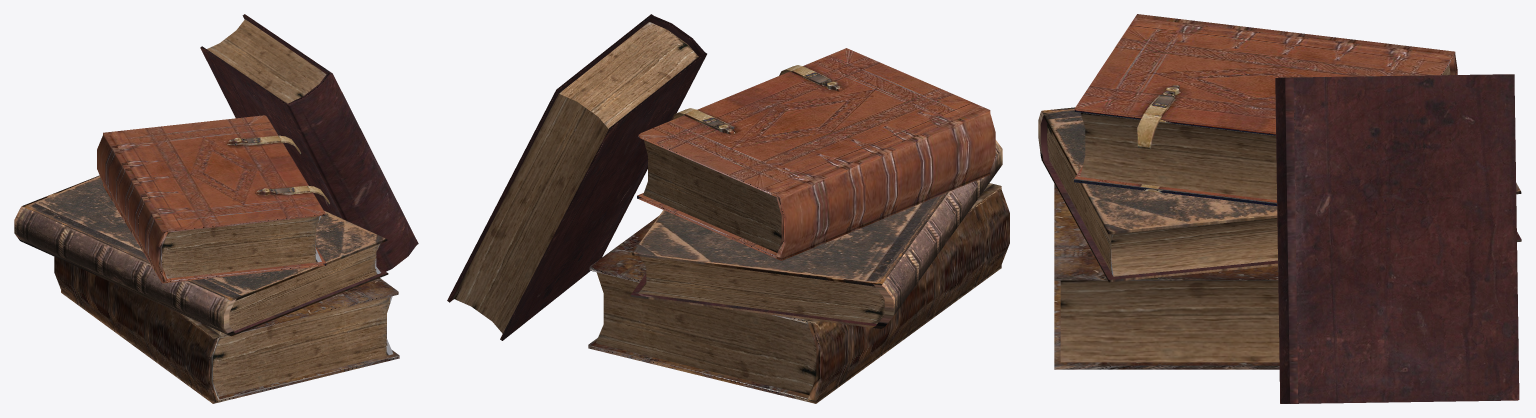
Rendered from old_books.glb.
The picture shows the model from 3 angles, left to right: view 1: azimuth 30°, elevation 25°; view 2: azimuth 150°, elevation 25°; view 3: azimuth 270°, elevation 25°; orthographic projection. The views are drawn at different scales.
Visible parts, largest first — view 1: Books; view 2: Books; view 3: Books.
Part boxes in pixels (x1,y1,x2,y2): Books: (14, 14, 418, 403); Books: (447, 14, 1009, 403); Books: (1038, 14, 1521, 403).
Size of the model in its own units: 0.5032 by 0.3052 by 0.4403.
Materials: 1 (1 with a texture image).
